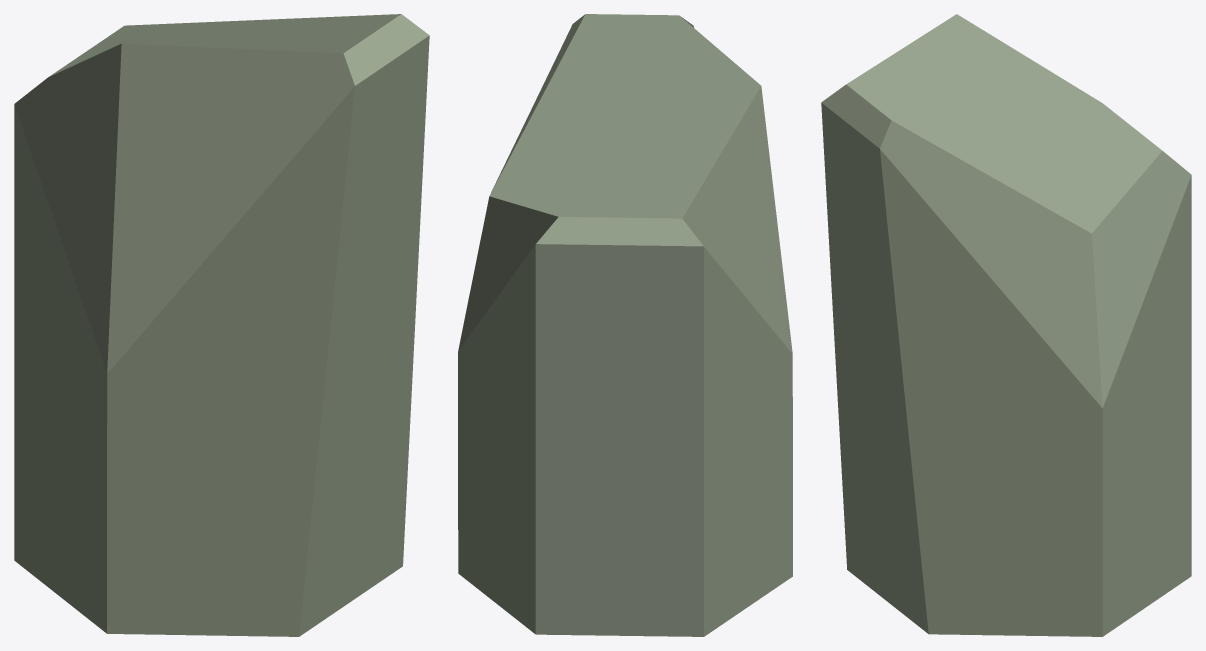
The model's file is 03_Roche_05_v001.fbx.
3 views of the same model, side by side, from view 1: azimuth 30°, elevation 25°; view 2: azimuth 150°, elevation 25°; view 3: azimuth 270°, elevation 25° (orthographic). The views are drawn at different scales.
Visible parts, largest first — view 1: Roche_05; view 2: Roche_05; view 3: Roche_05.
Boxes of the visible parts, left/top/right/bottom form: Roche_05: left=14, top=14, right=429, bottom=636; Roche_05: left=458, top=14, right=792, bottom=636; Roche_05: left=821, top=14, right=1191, bottom=636.
Size of the model in its own units: 1.74 by 3.23 by 2.14.
